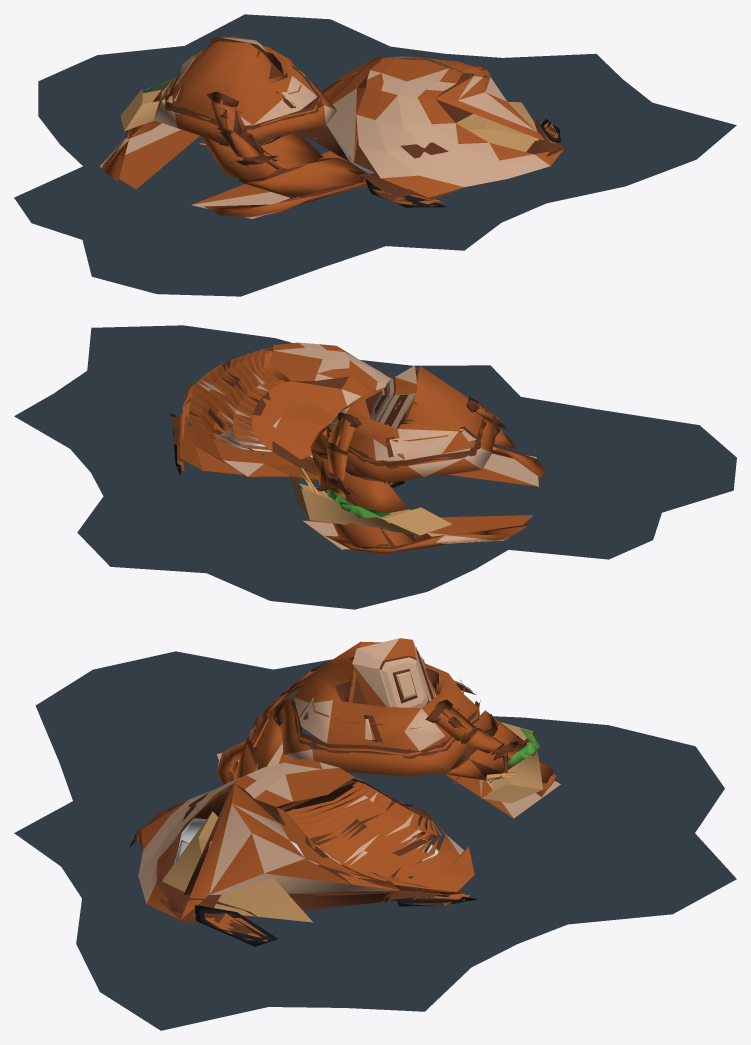
The model's file is heap-mixed.glb.
3 renders of one model, top to bottom at view 1: azimuth 30°, elevation 25°; view 2: azimuth 150°, elevation 25°; view 3: azimuth 270°, elevation 25°, orthographic. The views are drawn at different scales.
Parts seen in each view (by area): view 1: puddle, pile; view 2: puddle, pile; view 3: puddle, pile.
Part boxes in pixels (bbox=[...]): puddle: bbox=[14, 14, 736, 296]; pile: bbox=[99, 36, 566, 218]; puddle: bbox=[14, 325, 736, 609]; pile: bbox=[169, 342, 545, 554]; puddle: bbox=[14, 651, 736, 1030]; pile: bbox=[129, 638, 560, 946].
Bounding box in the file's own units: 2.05 × 0.3741 × 1.65.
